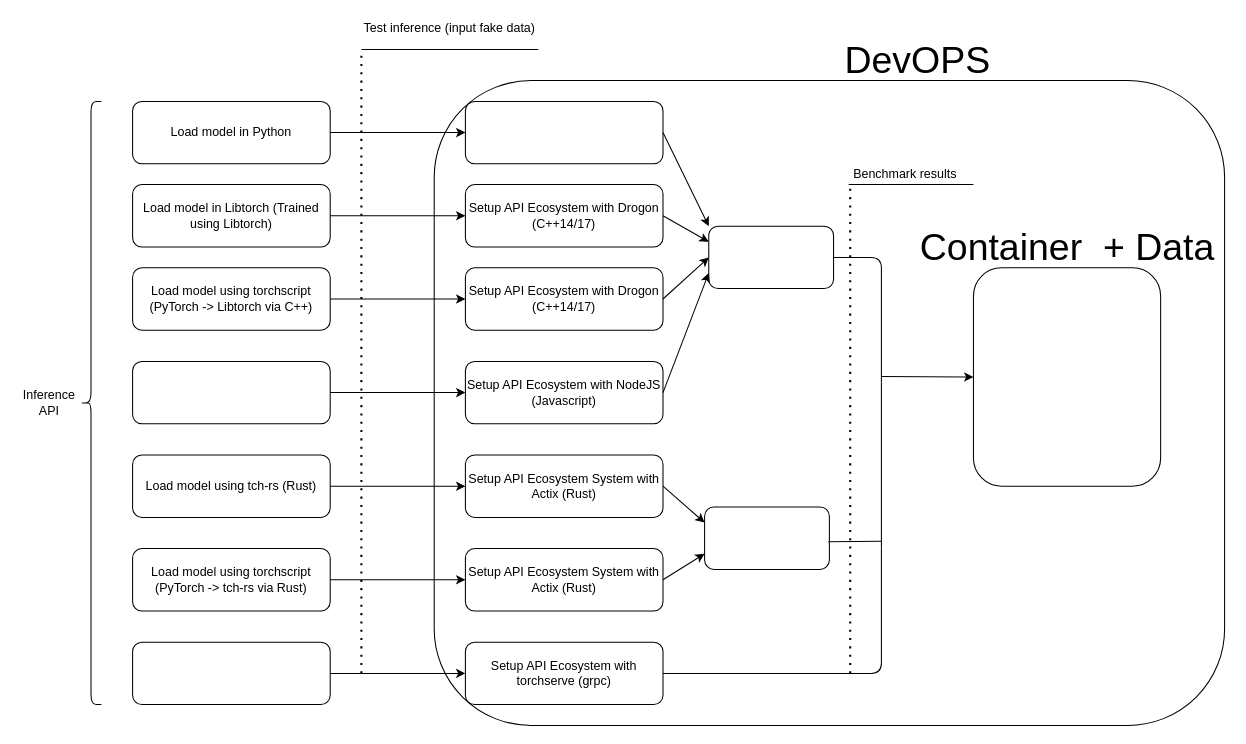
The diagram is 1246 pixels wide and 744 high, and some of its shapes have lost their labels. The centre of each missing label's shape, as x and y in pixels:
DockerHub + PostgresQL: (x=1066, y=376)
Googles gRPC: (x=771, y=257)
Load model using torchscript (PyTorch -> libtorchjs via NodeJS): (x=231, y=392)
Load model using torchserve (AWS Service): (x=231, y=673)
Setup API Ecosystem with FastAPI (Python): (x=563, y=132)
Tonic/gRPC and/or Tokio.rs: (x=766, y=537)
